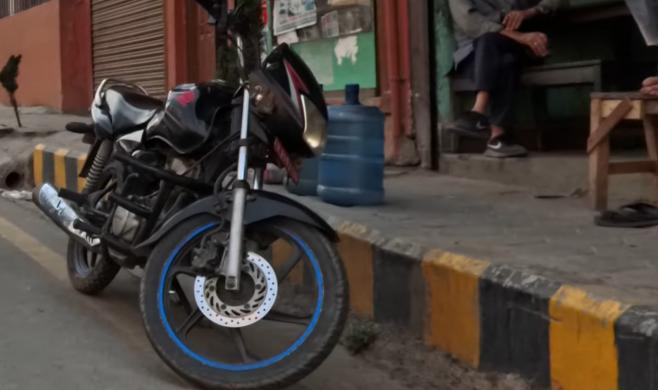bike: (25, 11, 358, 390)
